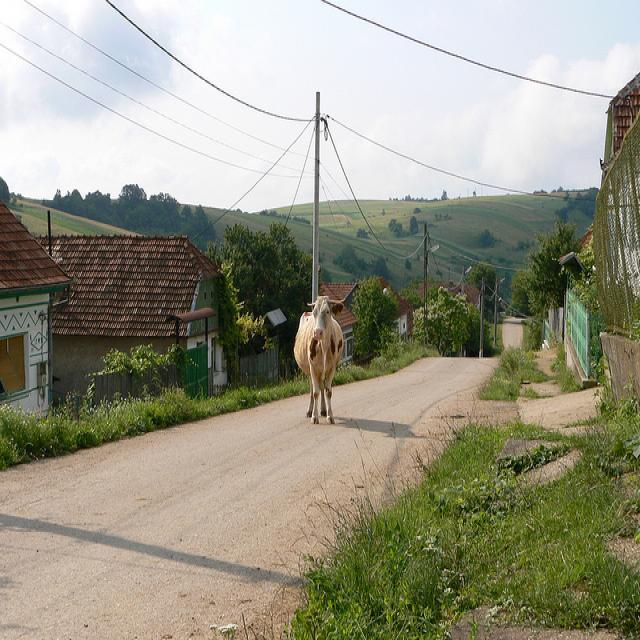cow: (290, 294, 343, 426)
